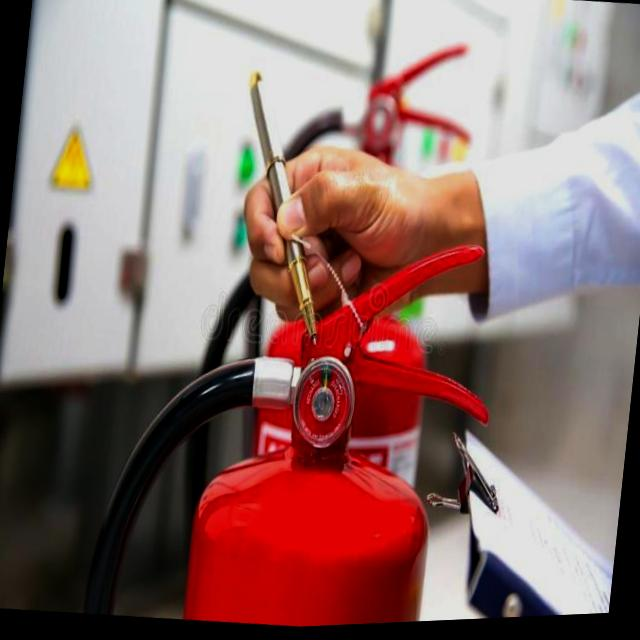FireExtinguisher: (74, 207, 514, 637), (166, 169, 464, 634)
